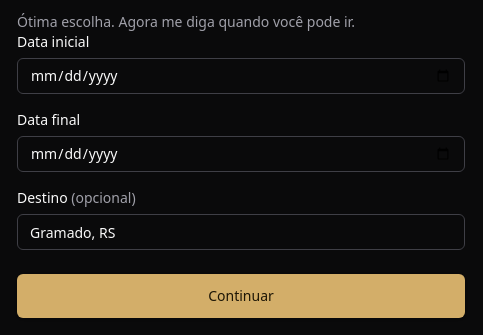
T01DateRangeForm (RF-01.4) › V2-L5-T01 (RF-13): apagar o destino pré-preenchido esconde a linha de contexto
Expected: the text "Ótima escolha. Agora me diga quando você pode ir." is shown, [17,12,355,31]
Clear the field labelled "Destino (opcional)" at (241, 232), box [17,214,465,250]
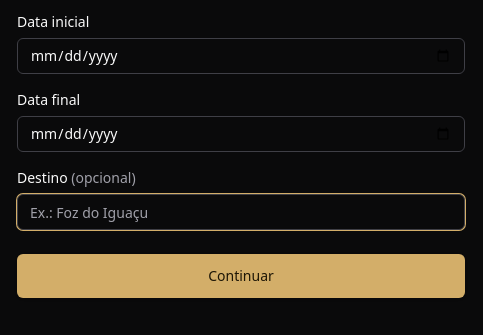
Now the text "Ótima escolha. Agora me diga quando você pode ir." is gone
